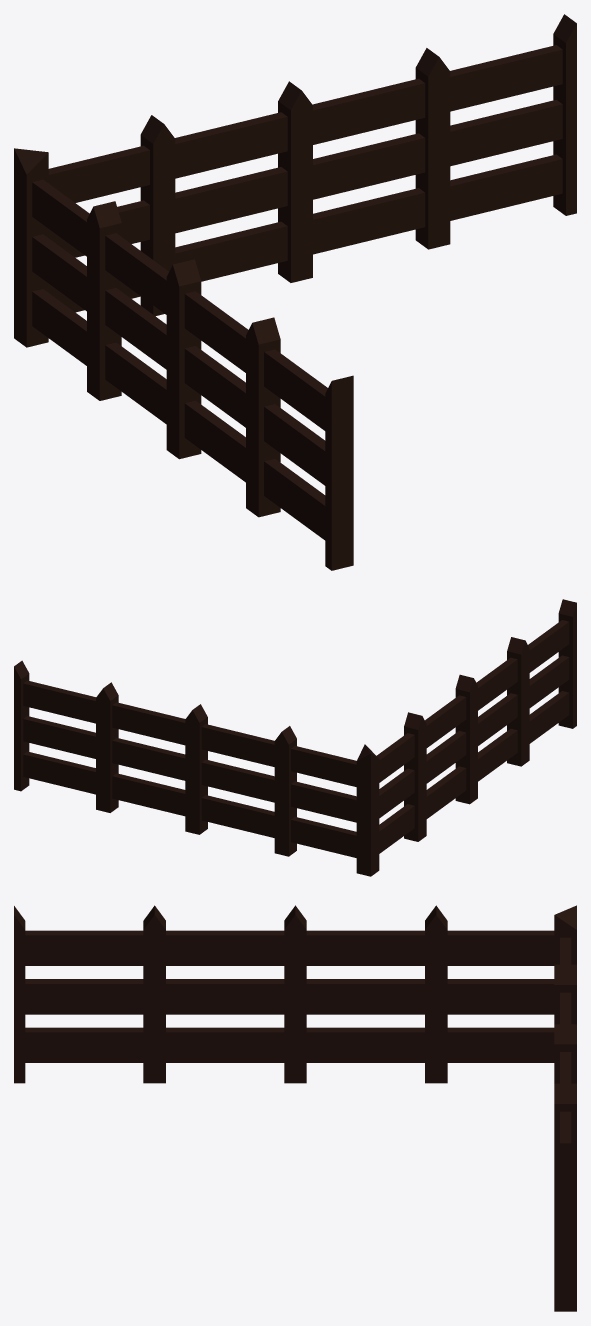
File: h-004_fence_5.0_edge_F.FBX
3 views of the same model, one above another, from view 1: azimuth 30°, elevation 25°; view 2: azimuth 150°, elevation 25°; view 3: azimuth 270°, elevation 25° (orthographic). The views are drawn at different scales.
Visible parts, largest first — view 1: h-004_fence_5.0_edge; view 2: h-004_fence_5.0_edge; view 3: h-004_fence_5.0_edge.
Part boxes in pixels (left/top/right/bottom): h-004_fence_5.0_edge: left=14, top=14, right=576, bottom=570; h-004_fence_5.0_edge: left=14, top=599, right=576, bottom=876; h-004_fence_5.0_edge: left=14, top=905, right=576, bottom=1311.
Bounding box in the file's own units: 50 × 16.5 × 50.
